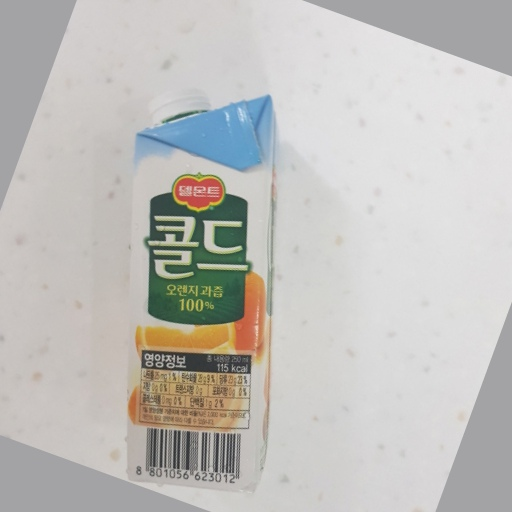Paper_0: (120, 94, 281, 505)
